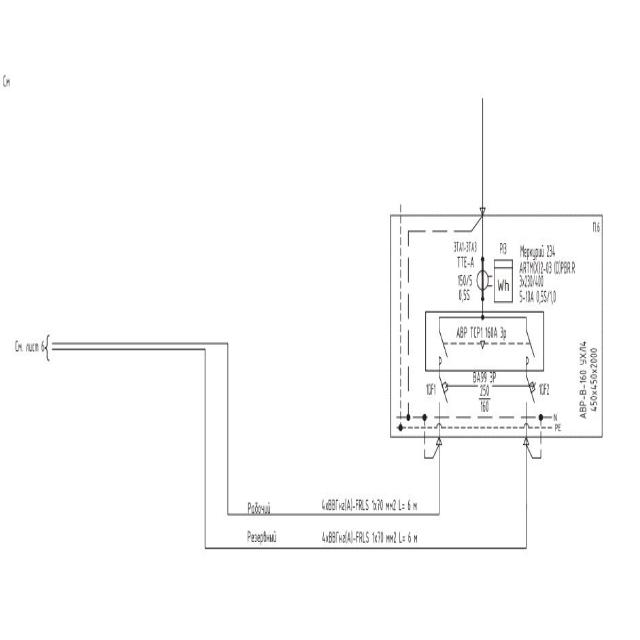-: (517, 241, 575, 308), (576, 335, 598, 420), (472, 368, 498, 415), (456, 254, 474, 306)
AVR: (454, 323, 509, 344)
KM: (436, 328, 449, 363), (524, 328, 536, 363)
QF: (522, 375, 536, 409), (437, 375, 451, 409)
TT: (476, 260, 493, 297)
WH: (494, 258, 513, 304)
